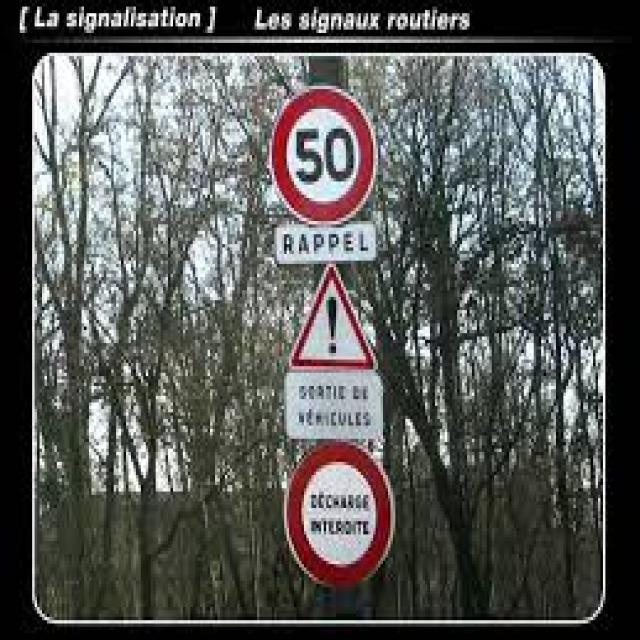danger: (286, 264, 382, 374)
forbidden: (283, 437, 395, 587)
speed_50: (268, 87, 383, 230)
